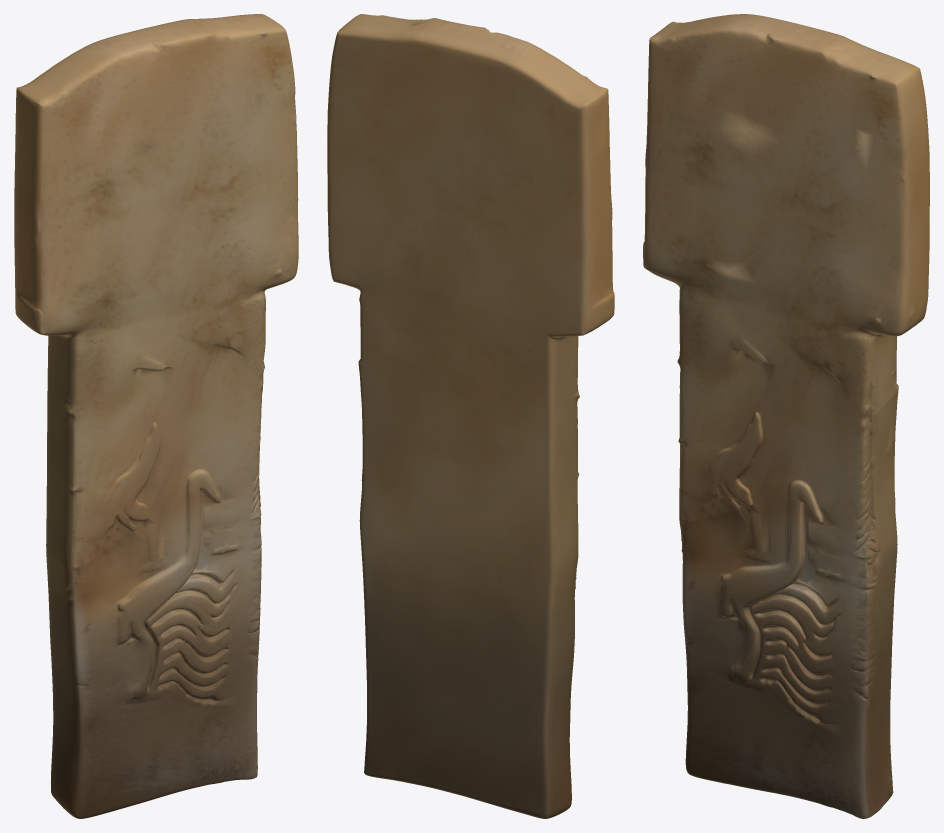
The model's file is lanzon_chavin.glb.
3 renders of one model, left to right at view 1: azimuth 30°, elevation 25°; view 2: azimuth 150°, elevation 25°; view 3: azimuth 330°, elevation 25°, orthographic.
Visible parts, largest first — view 1: material; view 2: material; view 3: material.
Boxes of the visible parts, x1,y1,x2,y2 form: material: (14, 14, 298, 818); material: (327, 14, 614, 818); material: (643, 14, 929, 818).
Bounding box in the file's own units: 0.427 × 1.17 × 0.0881.
Materials: 1 (1 with a texture image).
